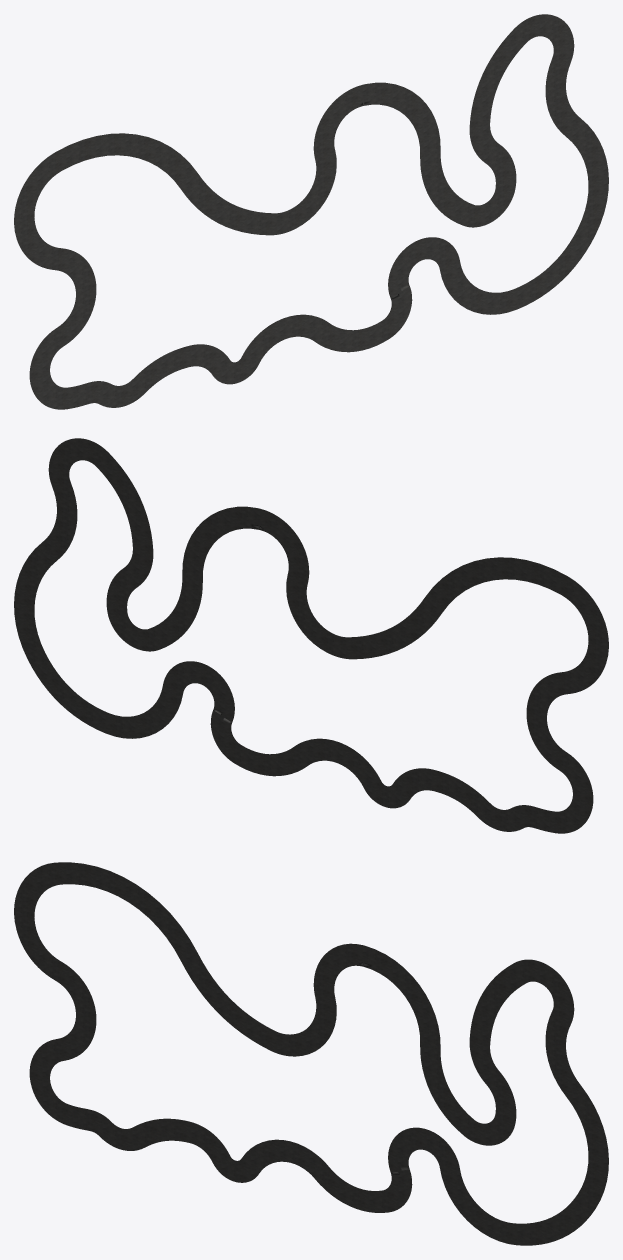
Rendered from track12_road.obj.
3 views of the same model, one above another, from view 1: azimuth 30°, elevation 25°; view 2: azimuth 150°, elevation 25°; view 3: azimuth 330°, elevation 25° (orthographic).
Visible parts, largest first — view 1: road_0_curve_.003; view 2: road_0_curve_.003; view 3: road_0_curve_.003.
Part boxes in pixels (left/top/right/bottom): road_0_curve_.003: left=14, top=14, right=608, bottom=409; road_0_curve_.003: left=14, top=438, right=608, bottom=833; road_0_curve_.003: left=14, top=862, right=608, bottom=1245.
Bounding box in the file's own units: 47.49 × 22.49 × 0.
1 material, 1 textured.
